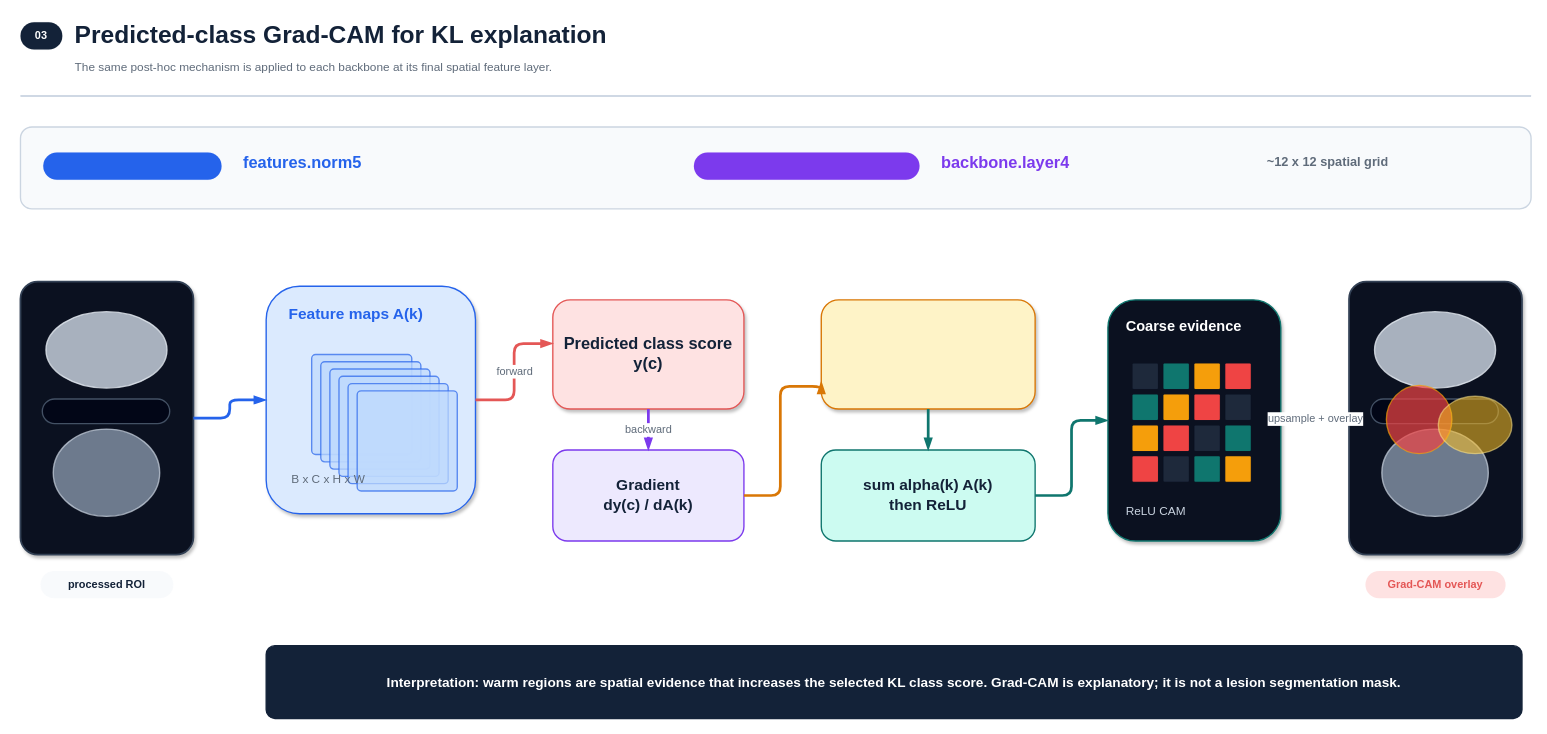
Image size: 1547x734. Some labels were removed from this diagram. Here are the shapes that lost their labels. From the top down, the centre of each, then its label:
point 132,165: DENSENET-121
point 806,165: SE-RESNEXT-50 32x4d
point 929,355: Channel weights alpha(k) = spatial mean of gradients
